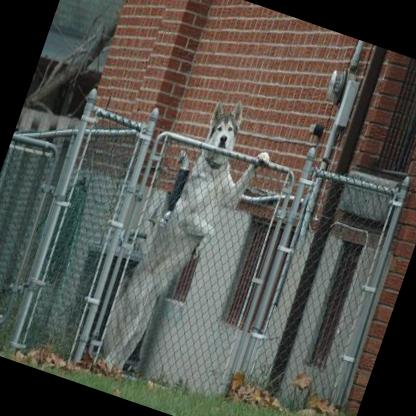Siberian_husky: (88, 79, 286, 403)
